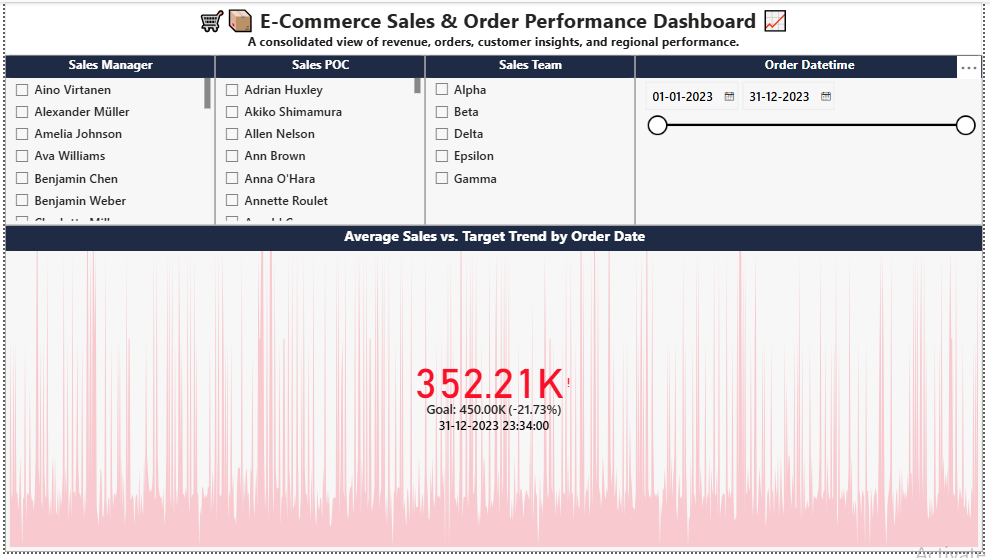

Layout of this report page (visuals, bound fields, positions):
{"tool":"powerbi","page":{"name":"Sales Target","canvas":[1280,720],"ordinal":2},"visuals":[{"type":"kpi","title":"Average Sales vs. Target Trend by Order Date","fields":{"TrendLine":["Orders.Order Datetime"],"Goal":["Sales Manager Target Completion.Total Target"],"Indicator":["Sales Manager Target Completion.Total Sales"]},"box":[0,292.3,1280.2,427.7],"z":0},{"type":"slicer","title":"Sales Manager","fields":{"Values":["Sales Manager Target Completion.Sales Manager"]},"box":[0,69.1,275,223.2],"z":1000},{"type":"slicer","title":"Sales POC","fields":{"Values":["Sales Targets.Sales POC"]},"box":[275,69.1,275,223.2],"z":2000},{"type":"slicer","title":"Sales Team","fields":{"Values":["Sales Targets.Sales Team"]},"box":[550.1,69.1,275,223.2],"z":3000},{"type":"slicer","title":"Order Datetime","fields":{"Values":["Orders.Order Datetime"]},"box":[825.1,69.1,455,223.2],"z":4000},{"type":"textbox","box":[0,0,1278.7,69.1],"z":5000}]}

Visuals, with their boxes in screenshot pixels (x1, y1, x2, y2), scaled from the page's 1280x720 canvas onto the 990x558 screenshot:
"Average Sales vs. Target Trend by Order Date" kpi: rect(0, 227, 989, 557)
"Sales Manager" slicer: rect(0, 54, 213, 227)
"Sales POC" slicer: rect(213, 54, 425, 227)
"Sales Team" slicer: rect(425, 54, 638, 227)
"Order Datetime" slicer: rect(638, 54, 989, 227)
textbox: rect(0, 0, 989, 54)
